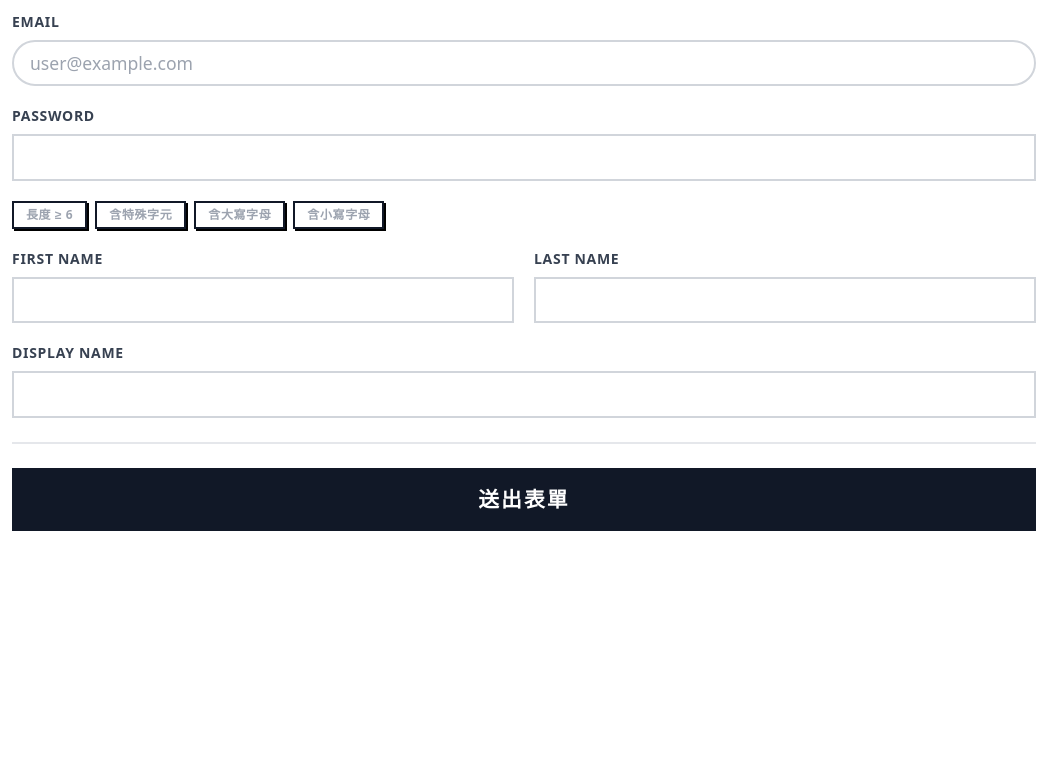
Test: RegisterForm › 密碼未滿足所有條件時提交應顯示錯誤
The image size is (1048, 780).
In the field with class "email-input": point(524, 63) left=12, top=40, right=1036, bottom=86, type "test@example.com"
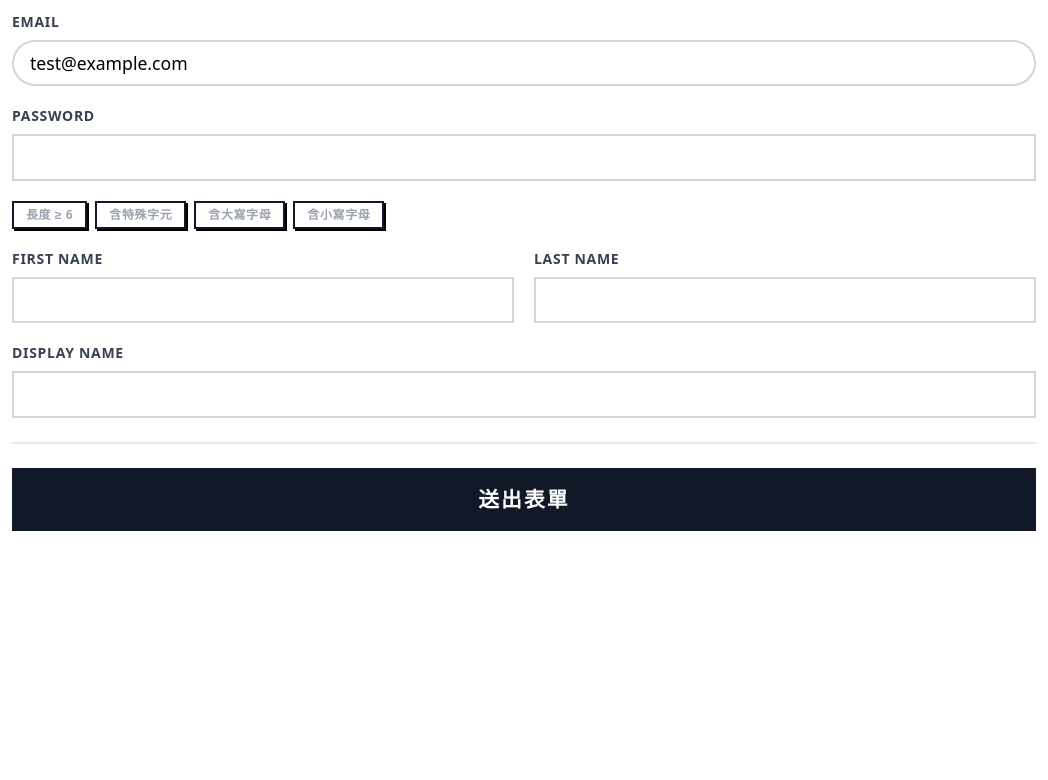
In the password field labelled "Password": point(524, 158) left=12, top=134, right=1036, bottom=181, type "weak"
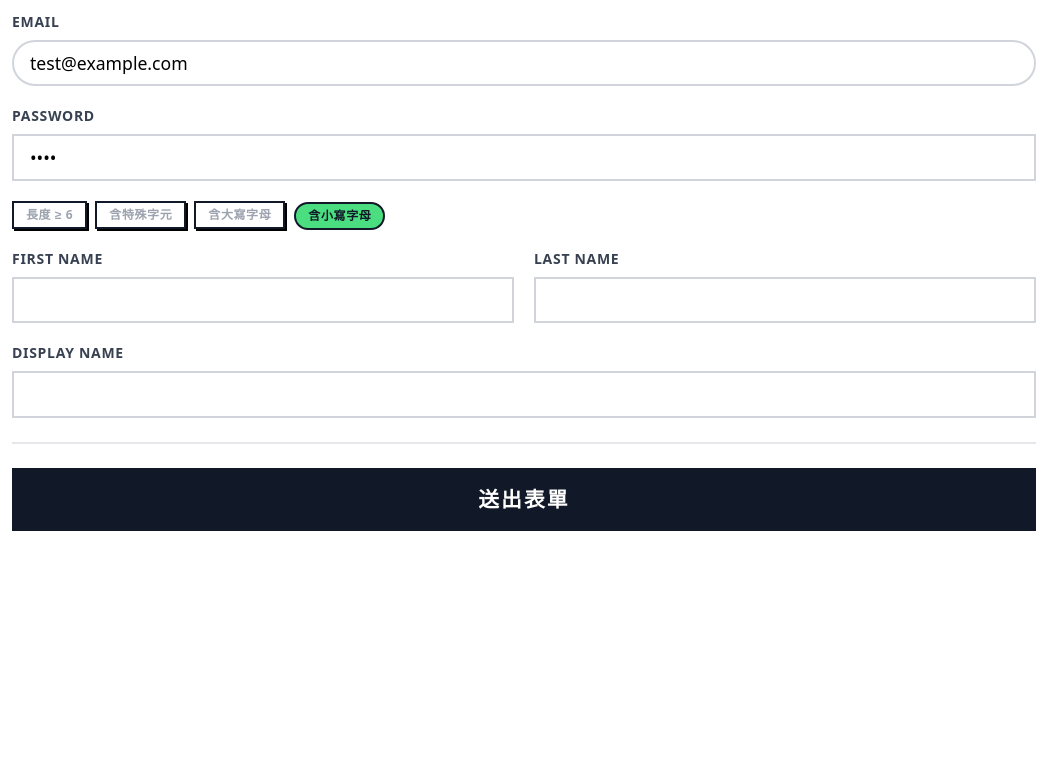
In the field with class "firstname-input": point(263, 300) left=12, top=277, right=514, bottom=323, type "John"
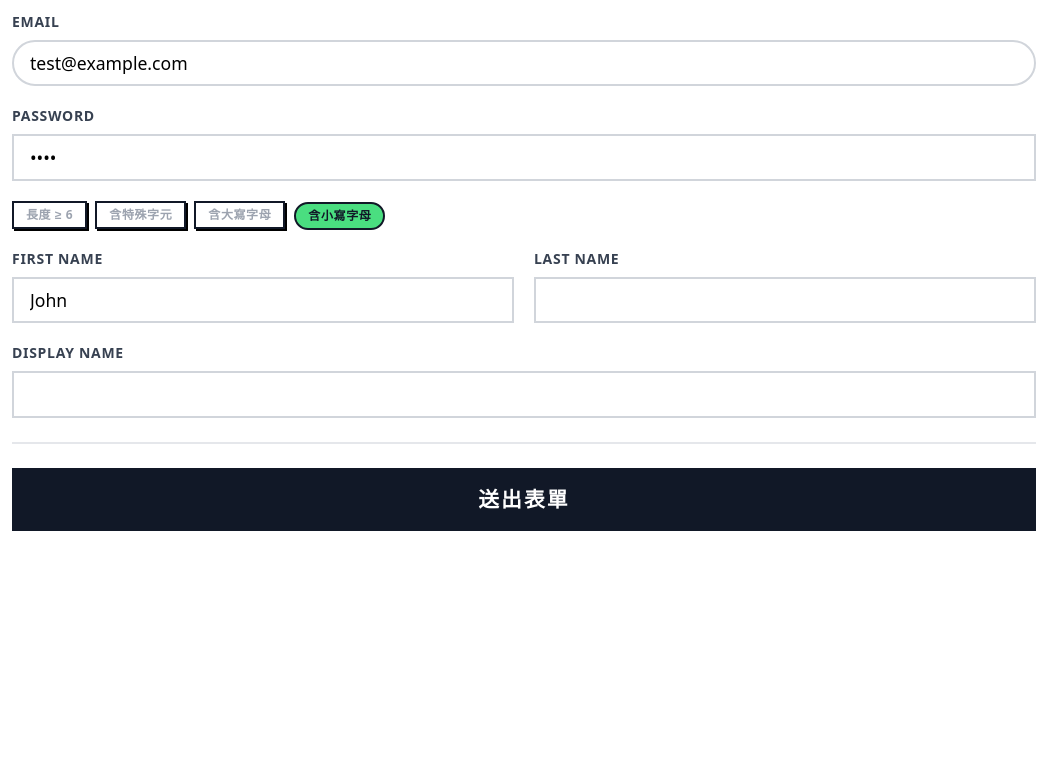
In the field with class "lastname-input": point(785, 300) left=534, top=277, right=1036, bottom=323, type "Doe"
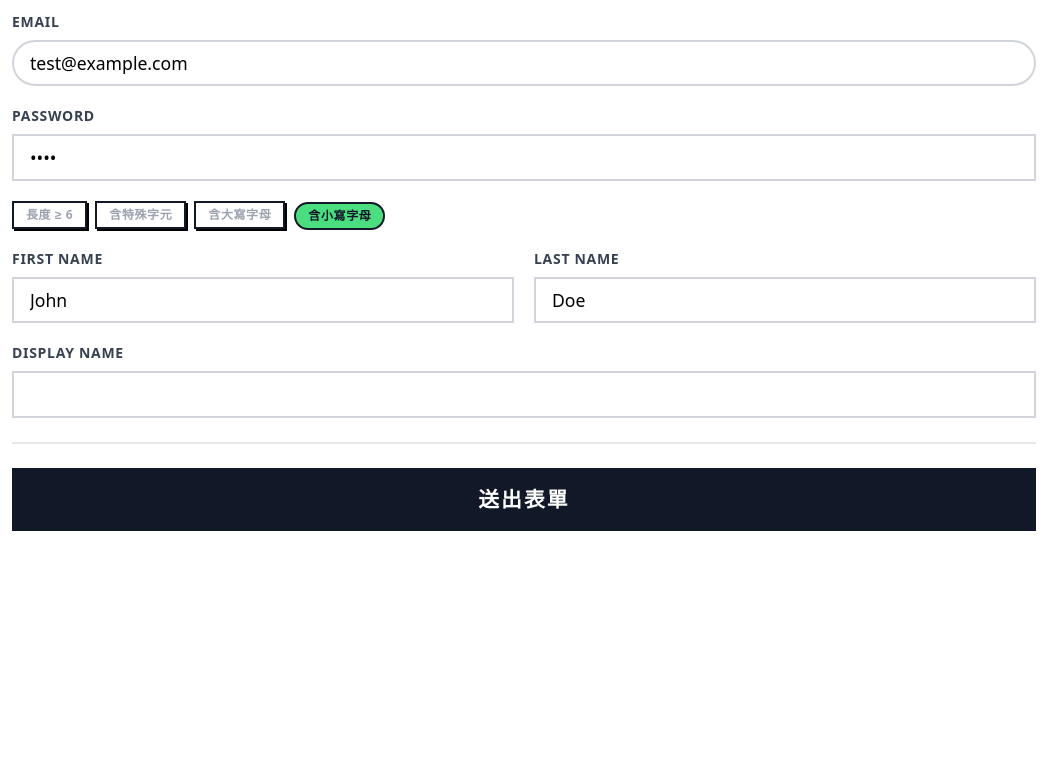
Submit the form
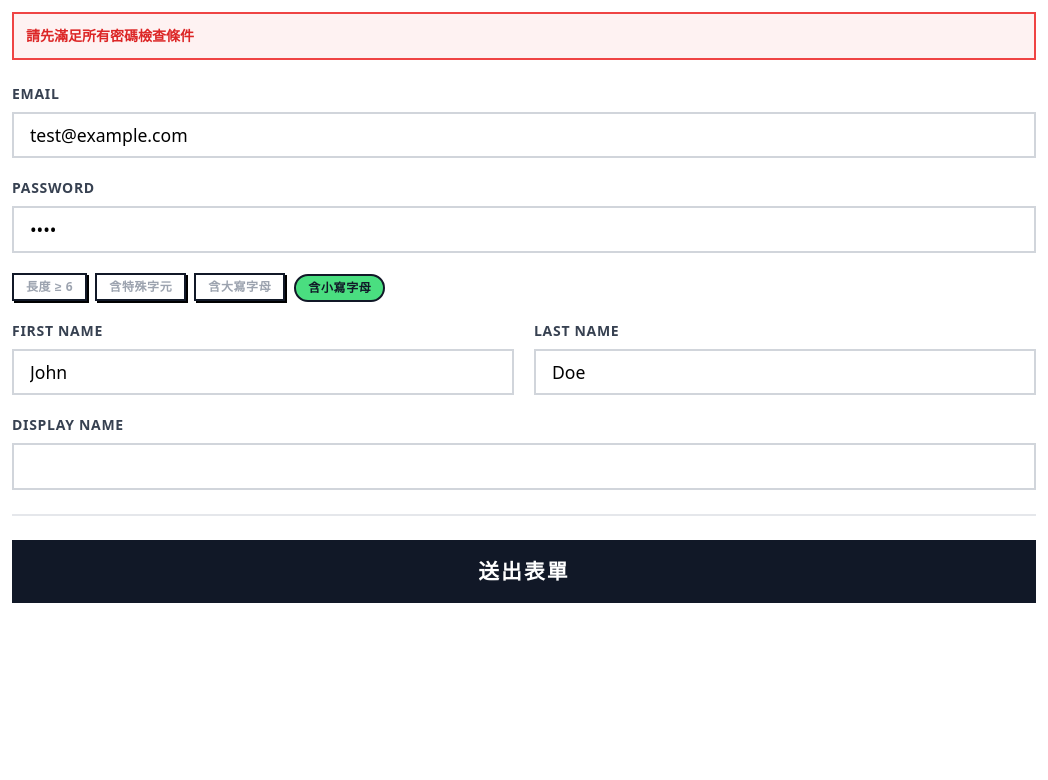
Check: the text "請先滿足所有密碼檢查條件" is shown, box left=12, top=12, right=1036, bottom=60
Check: the text with class "general-error" reads "請先滿足所有密碼檢查條件", box left=26, top=26, right=194, bottom=45
